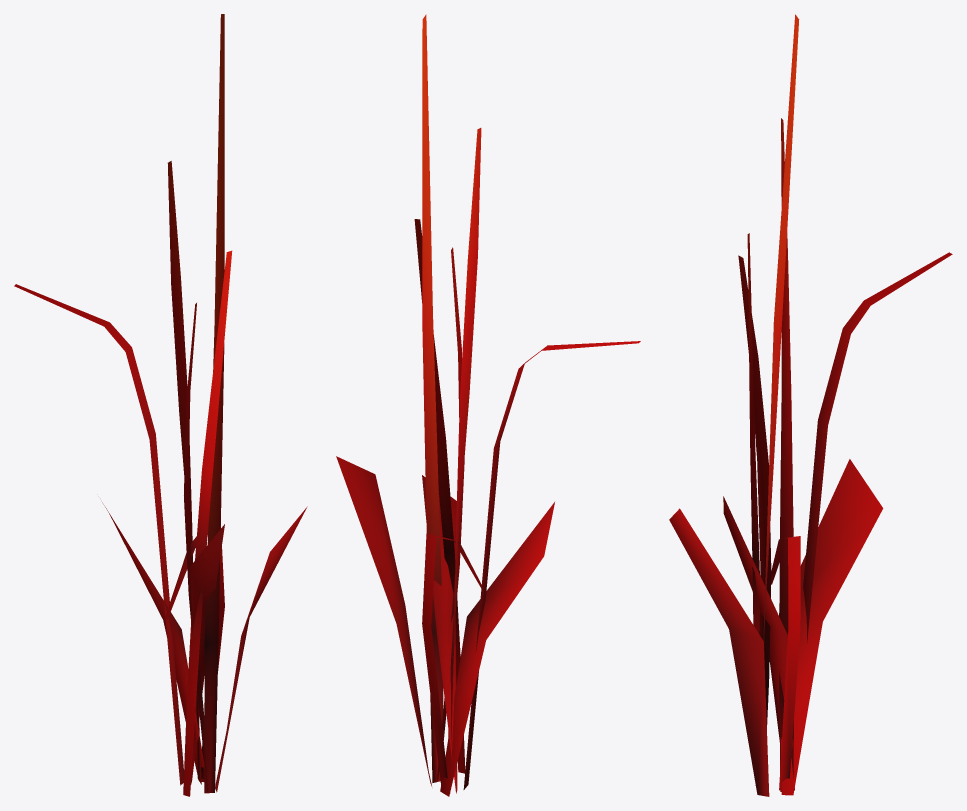
Rendered from SM_RicePlants_6.fbx.
The picture shows the model from 3 angles, left to right: view 1: azimuth 30°, elevation 25°; view 2: azimuth 210°, elevation 25°; view 3: azimuth 270°, elevation 25°; orthographic projection. The views are drawn at different scales.
Visible parts, largest first — view 1: SM_RicePlants_6; view 2: SM_RicePlants_6; view 3: SM_RicePlants_6.
Boxes of the visible parts, <box> form: SM_RicePlants_6: <box>14,14,307,796</box>; SM_RicePlants_6: <box>336,14,640,796</box>; SM_RicePlants_6: <box>669,14,952,796</box>.
Size of the model in its own units: 0.2485 by 1.1 by 0.3556.
